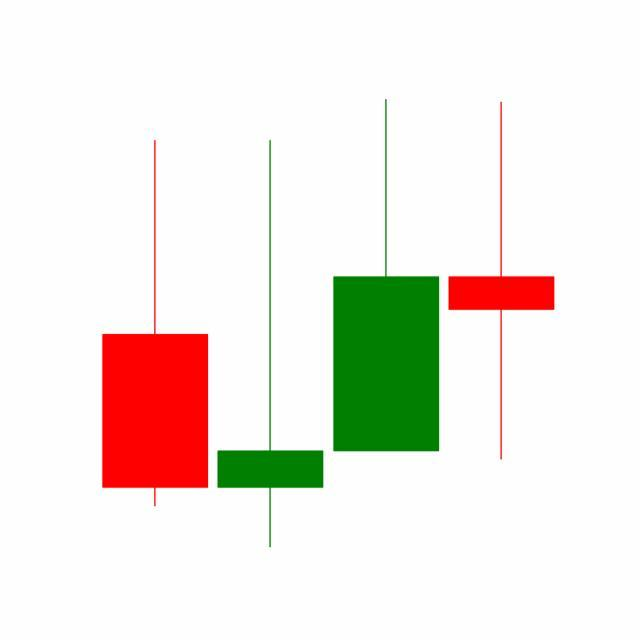Spinning Top: (444, 99, 560, 465)
